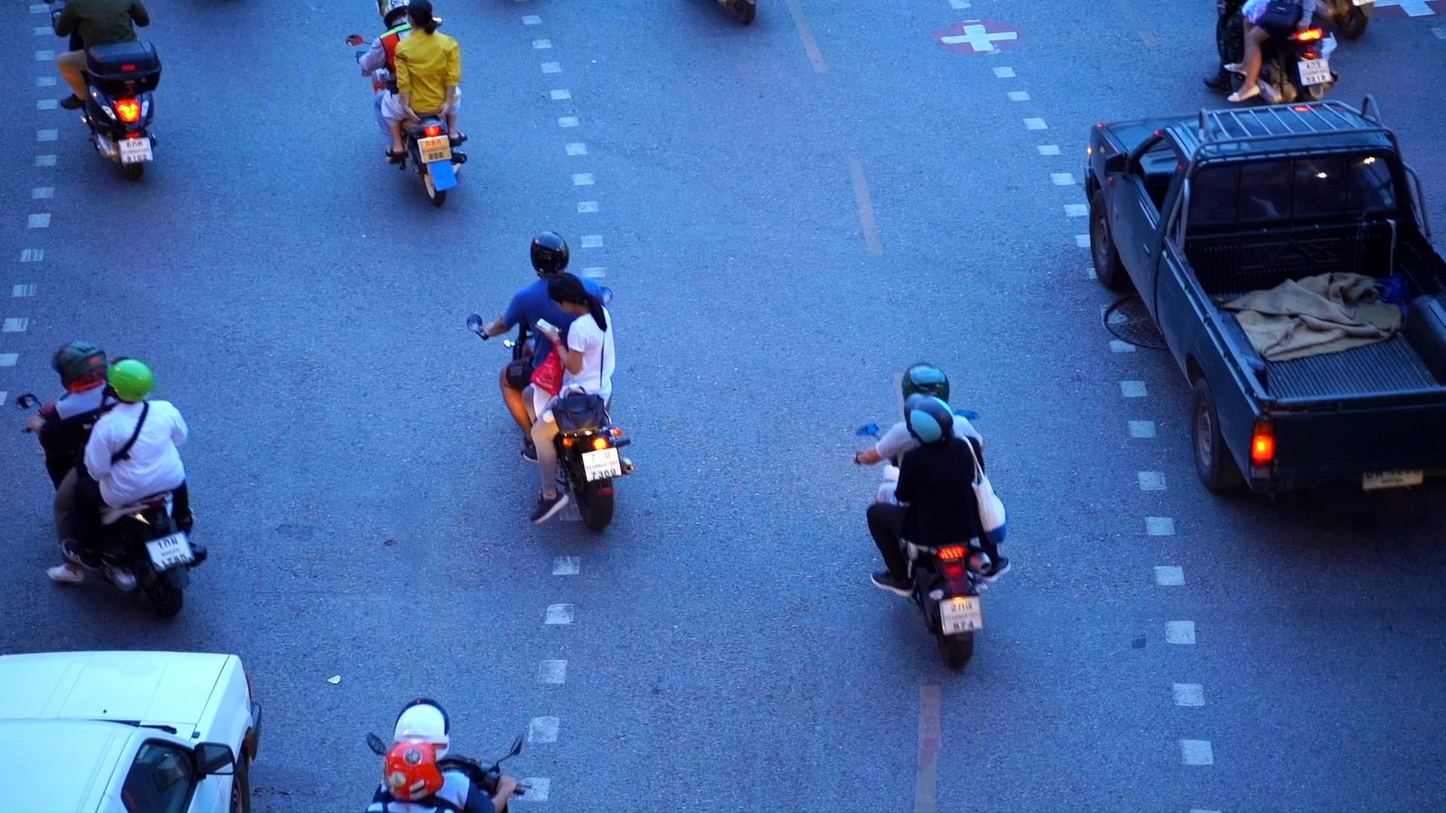driver: (16, 340, 208, 619), (465, 230, 636, 532), (853, 362, 1011, 670), (345, 0, 467, 207), (42, 0, 162, 181), (365, 699, 536, 813), (1203, 0, 1338, 106)
helmet: (384, 740, 444, 803), (393, 699, 451, 764), (52, 340, 106, 394), (904, 392, 954, 447), (100, 356, 154, 404), (902, 362, 950, 405), (530, 230, 569, 278), (375, 0, 410, 30)
no-helmet: (548, 273, 606, 316), (404, 1, 438, 35)
